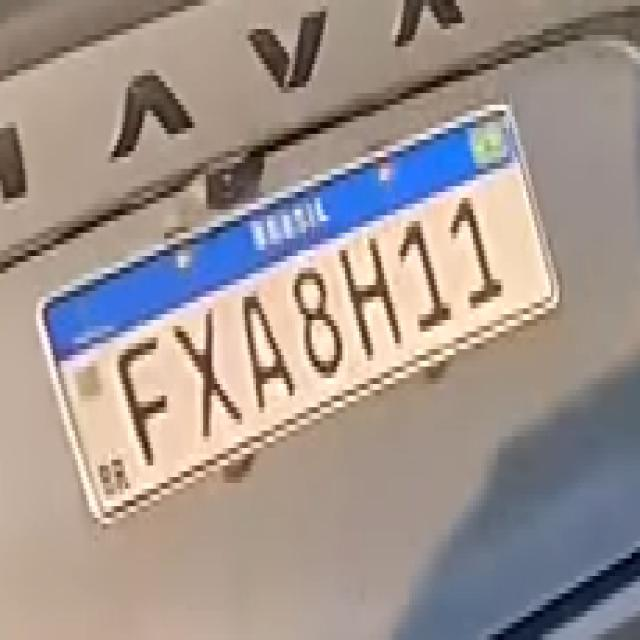Placa_mercosul_carro: (34, 100, 564, 531)
